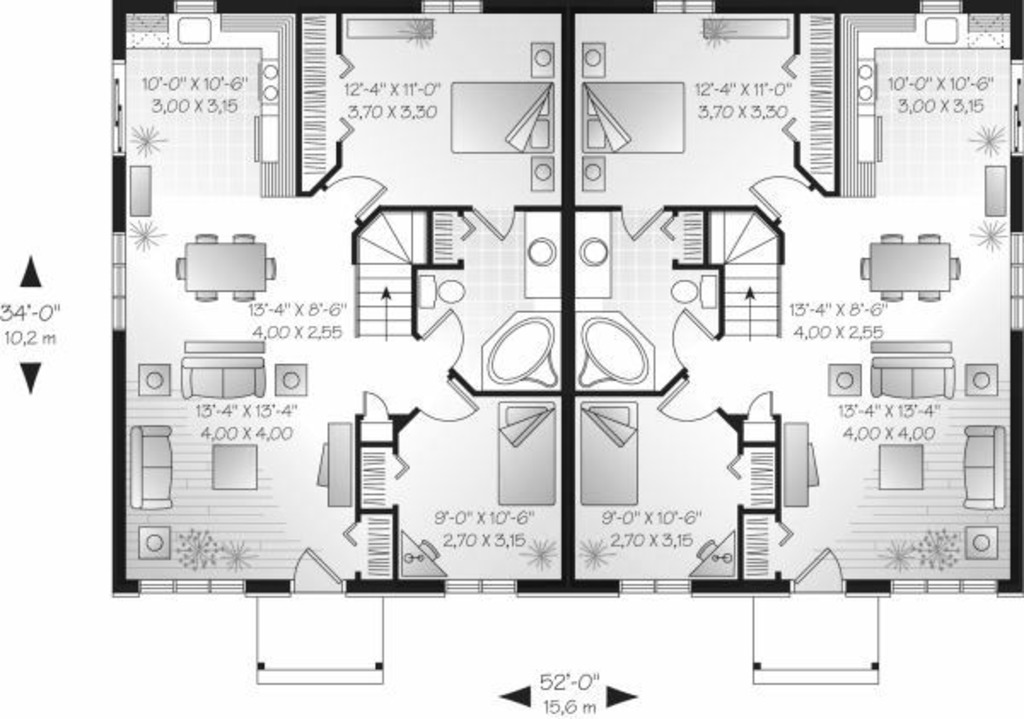bed: (576, 79, 704, 160), (445, 71, 558, 154), (572, 398, 646, 511), (489, 397, 562, 511)
dining_table: (162, 230, 291, 308), (852, 231, 967, 305)
door: (746, 166, 819, 228), (414, 369, 480, 425), (322, 166, 386, 220), (419, 304, 469, 370), (284, 548, 350, 597), (665, 311, 721, 368), (655, 379, 720, 426), (790, 545, 846, 593), (468, 201, 521, 247), (609, 204, 662, 247), (357, 386, 401, 426), (739, 384, 777, 424)
large_sink: (668, 265, 722, 307), (410, 267, 471, 303)
large_sofa: (171, 341, 274, 406), (121, 423, 185, 511), (866, 351, 962, 406), (956, 417, 1011, 507)
sink: (166, 8, 222, 50), (918, 10, 960, 49)
small_sink: (522, 206, 562, 297), (569, 211, 609, 297)
stairs: (351, 207, 452, 353), (692, 197, 796, 338)
window: (135, 574, 250, 598), (607, 576, 691, 599), (447, 579, 524, 595), (894, 579, 998, 590)
